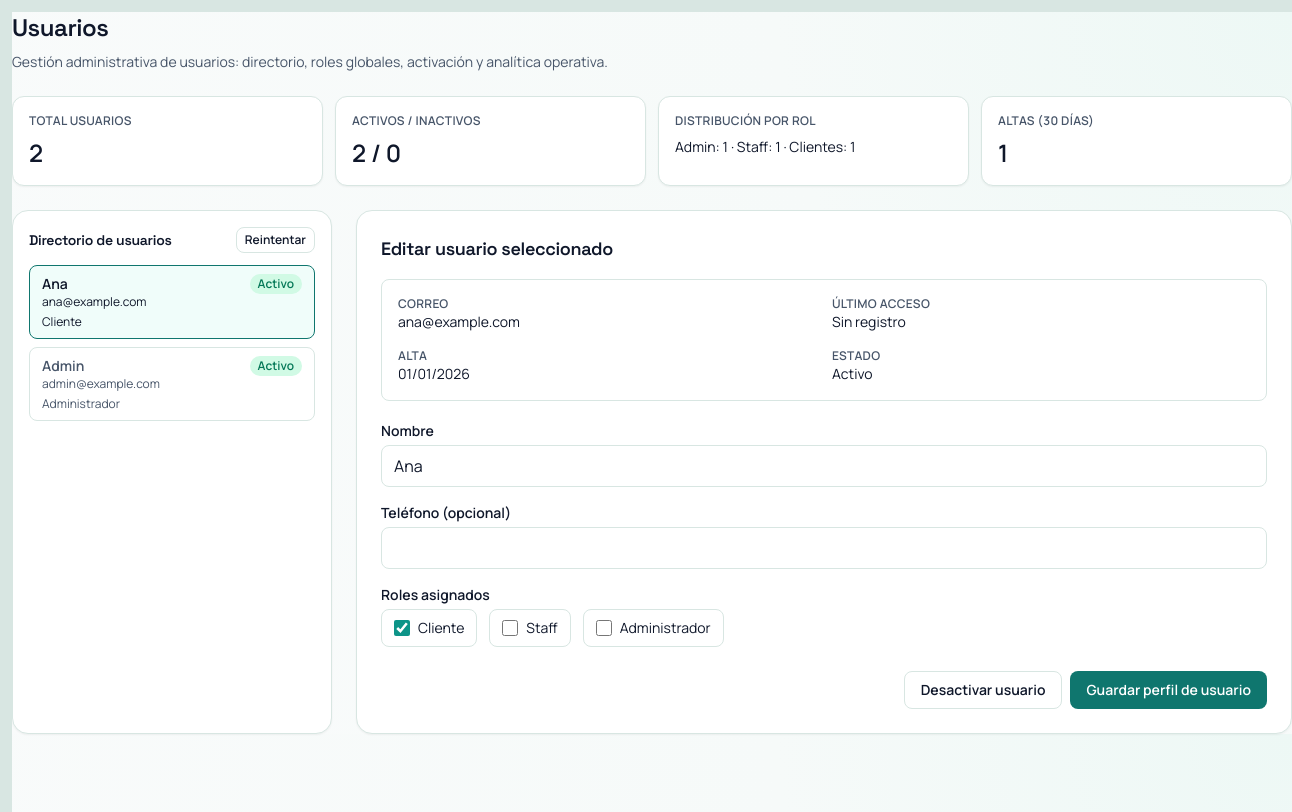
AdminUsersPage › deactivates user with confirmation and updates feedback
Step 1. Click the button "Desactivar usuario" → (983, 690), box [904,671,1062,709]
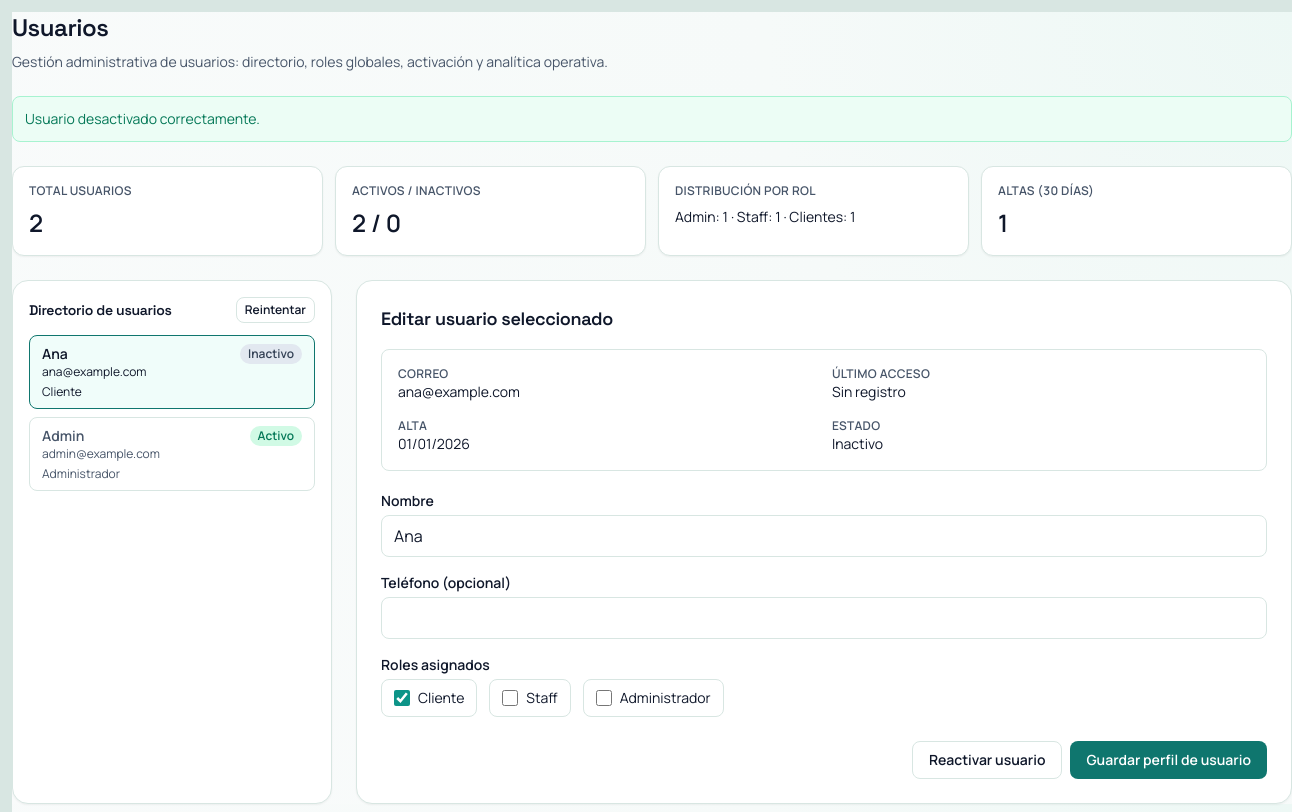
Now the text "Usuario desactivado correctamente." is shown, box [12,96,1291,142]
